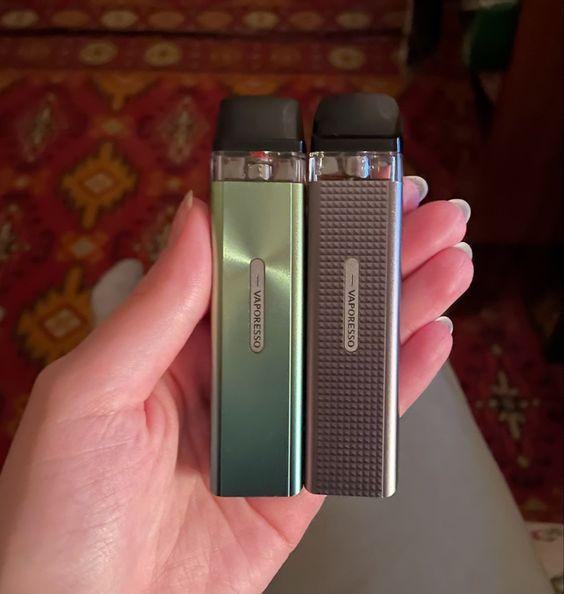Vape: (303, 92, 402, 496), (210, 96, 305, 496)
